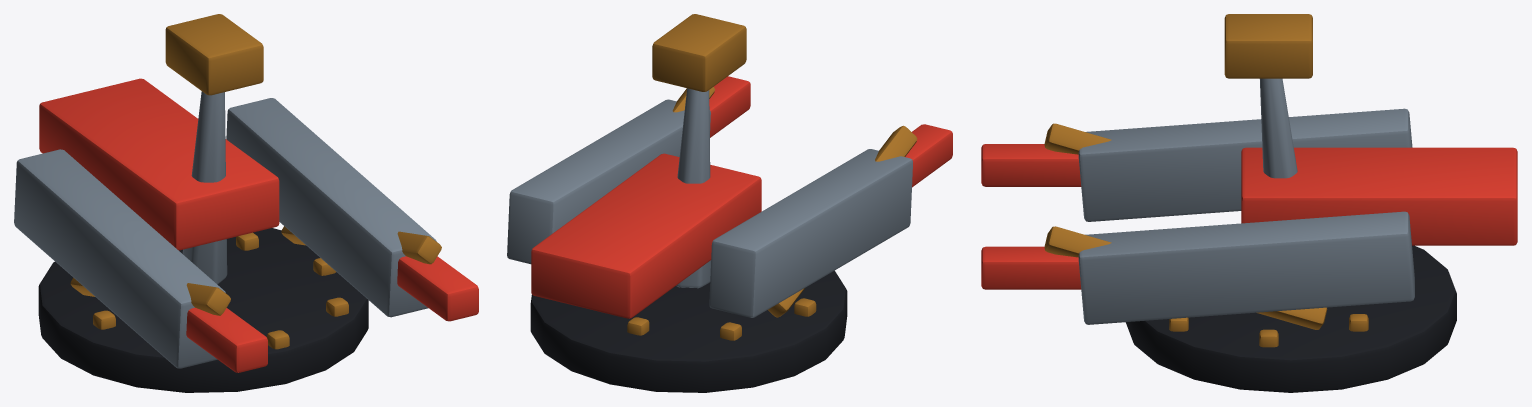
Rendered from BranchB1.obj.
3 renders of one model, left to right at view 1: azimuth 30°, elevation 25°; view 2: azimuth 150°, elevation 25°; view 3: azimuth 270°, elevation 25°, orthographic. The views are drawn at different scales.
Parts seen in each view (by area): view 1: BranchB1; view 2: BranchB1; view 3: BranchB1.
Part boxes in pixels (x1,y1,x2,y2): BranchB1: [14, 14, 478, 392]; BranchB1: [507, 14, 952, 392]; BranchB1: [981, 14, 1517, 392].
Bounding box in the file's own units: 0.6 × 0.595 × 0.97.
